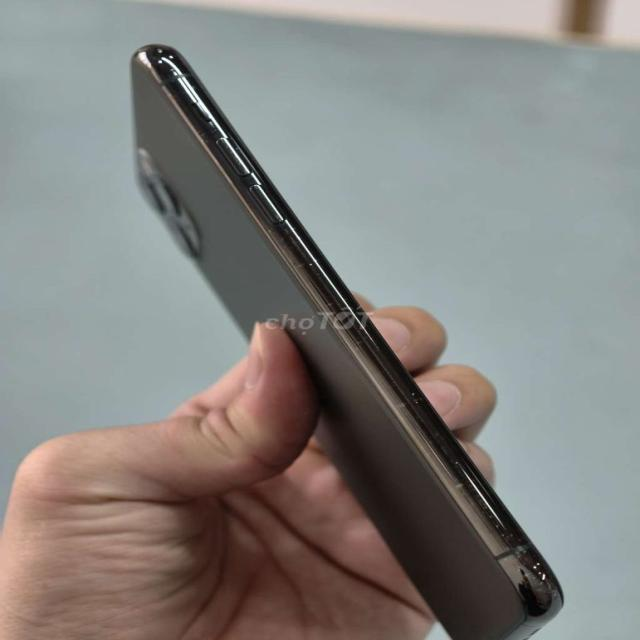scratch: (243, 194, 328, 275), (174, 108, 252, 184), (460, 491, 516, 551), (416, 429, 463, 482), (393, 368, 431, 419), (514, 560, 552, 600), (350, 320, 386, 358), (312, 287, 346, 321)
